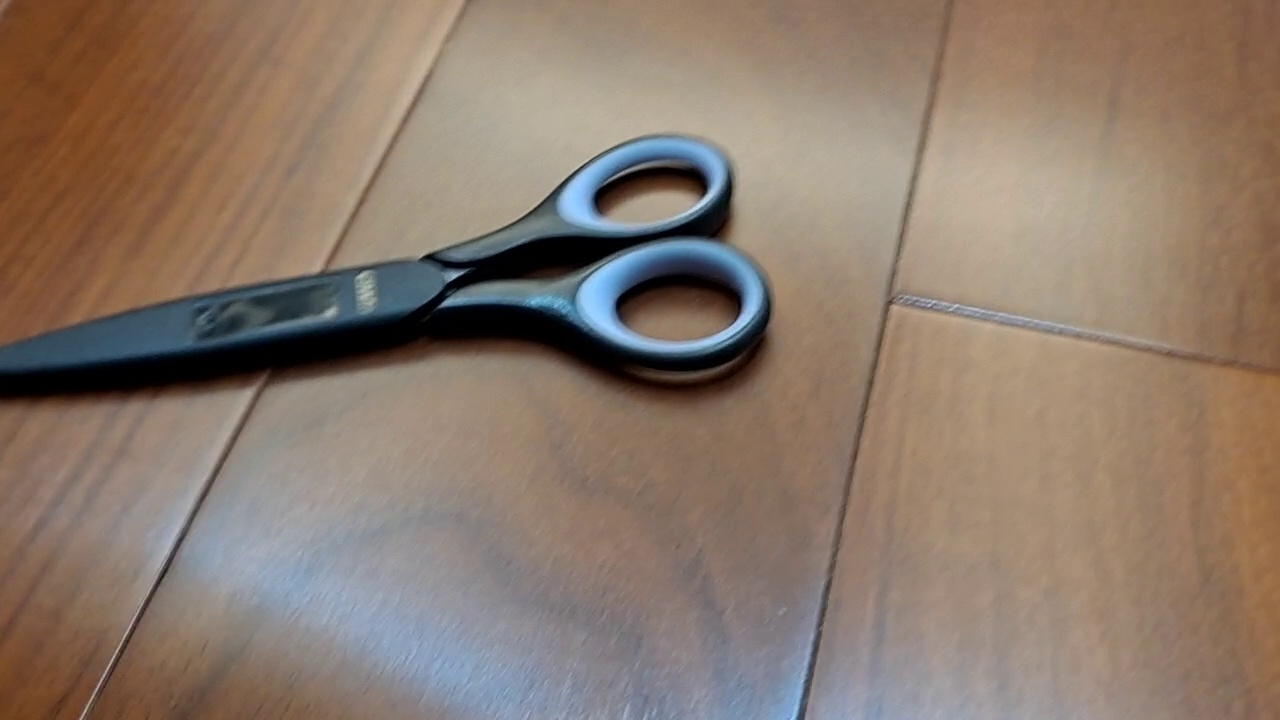scissors: (1, 132, 778, 401)
